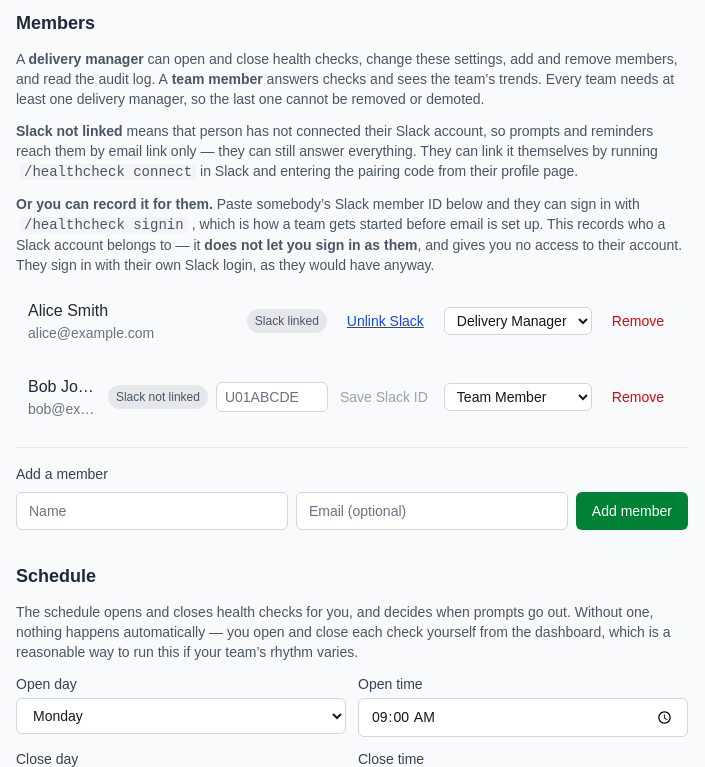
Scenario: Team Settings Page › Members Section (Req 1.3, 1.6, 1.7, 2.7, 19.5) › allows removing a member with confirmation
(page scrolled)
expect the text "Bob Jones" is shown: met, box [28, 375, 100, 399]
Click the button "Remove" in the row of "bob@example.com" at (638, 397), box [600, 383, 676, 411]
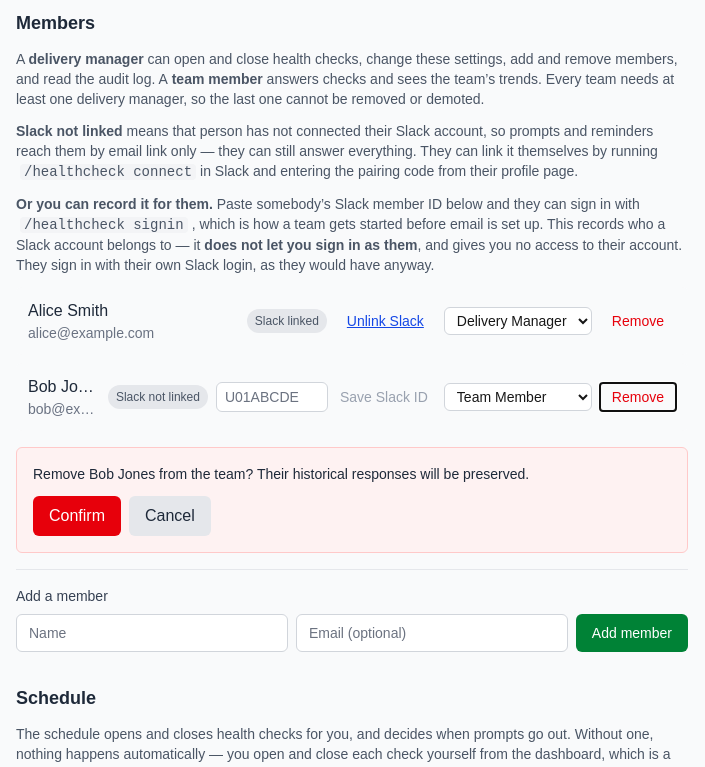
expect the text "Remove Bob Jones" is shown: met, box [33, 466, 529, 482]
Click the button "Confirm" at (77, 516), box [33, 496, 121, 536]
(page scrolled)
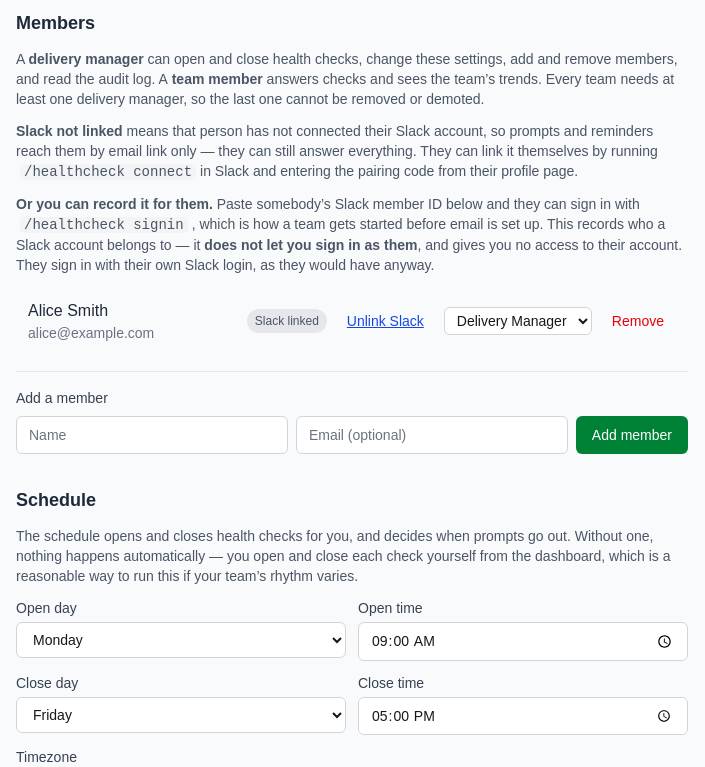
expect the text "Bob Jones" is gone: met
